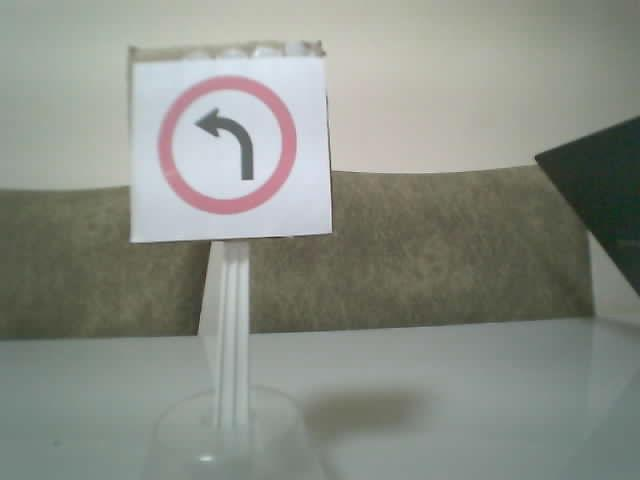R-25a_esquerda: (155, 74, 296, 215)
